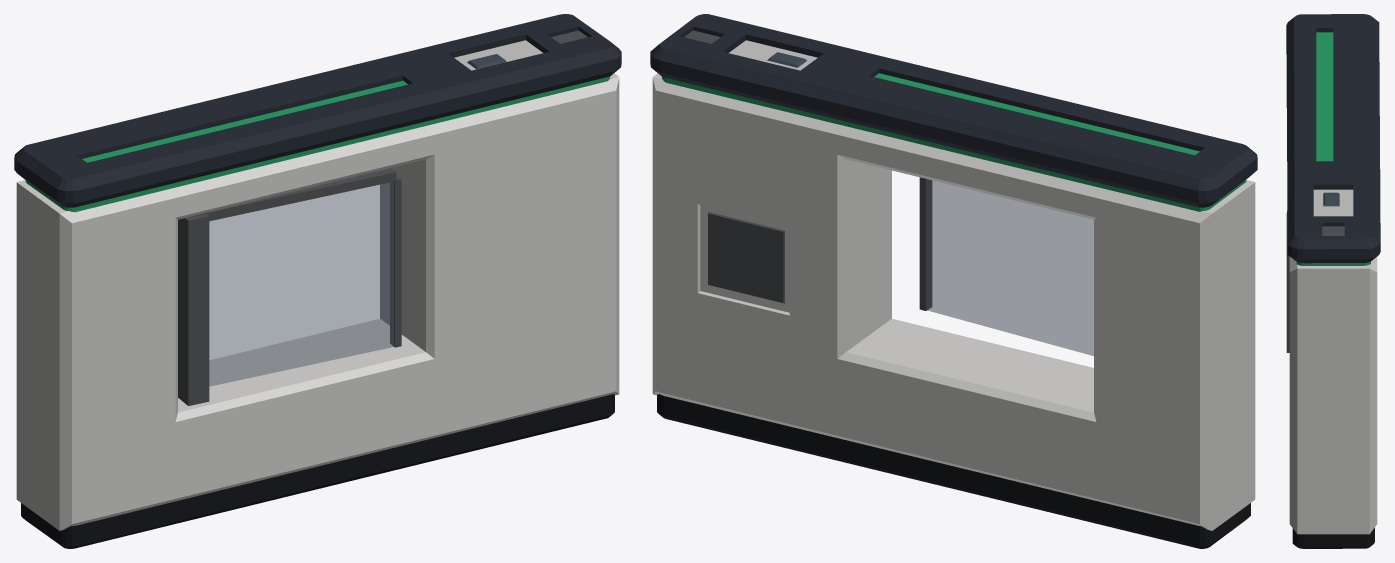
Rendered from access-control-speedgate-19705e.glb.
3 renders of one model, left to right at view 1: azimuth 30°, elevation 25°; view 2: azimuth 150°, elevation 25°; view 3: azimuth 270°, elevation 25°, orthographic. The views are drawn at different scales.
Visible parts, largest first — view 1: object 1, wing; view 2: object 1, wing; view 3: object 1, wing.
Part boxes in pixels (<box>): object 1: <box>14,14,621,548</box>; wing: <box>178,168,401,405</box>; object 1: <box>650,14,1257,548</box>; wing: <box>919,177,1093,355</box>; object 1: <box>1286,14,1380,548</box>; wing: <box>1286,211,1289,352</box>.
Bounding box in the file's own units: 1.6 × 1 × 0.275.
